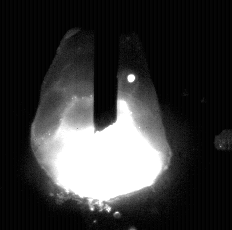arame: (95, 0, 119, 132)
poca: (30, 0, 168, 230)
